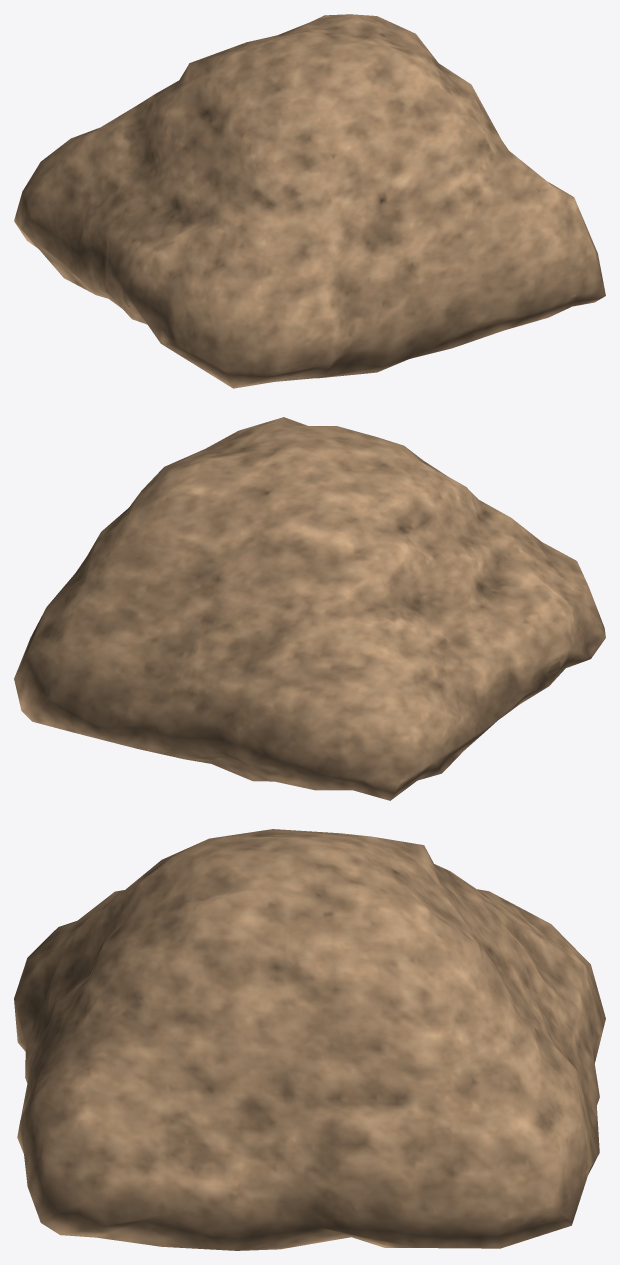
File: sand.fbx
3 renders of one model, top to bottom at view 1: azimuth 30°, elevation 25°; view 2: azimuth 150°, elevation 25°; view 3: azimuth 270°, elevation 25°, orthographic. The views are drawn at different scales.
Parts seen in each view (by area): view 1: sandLowPoly; view 2: sandLowPoly; view 3: sandLowPoly.
Boxes of the visible parts, x1,y1,x2,y2 form: sandLowPoly: (14, 14, 605, 388); sandLowPoly: (14, 417, 605, 800); sandLowPoly: (14, 829, 605, 1250).
Bounding box in the file's own units: 7.57 × 4.41 × 7.42.
1 material, 1 textured.
